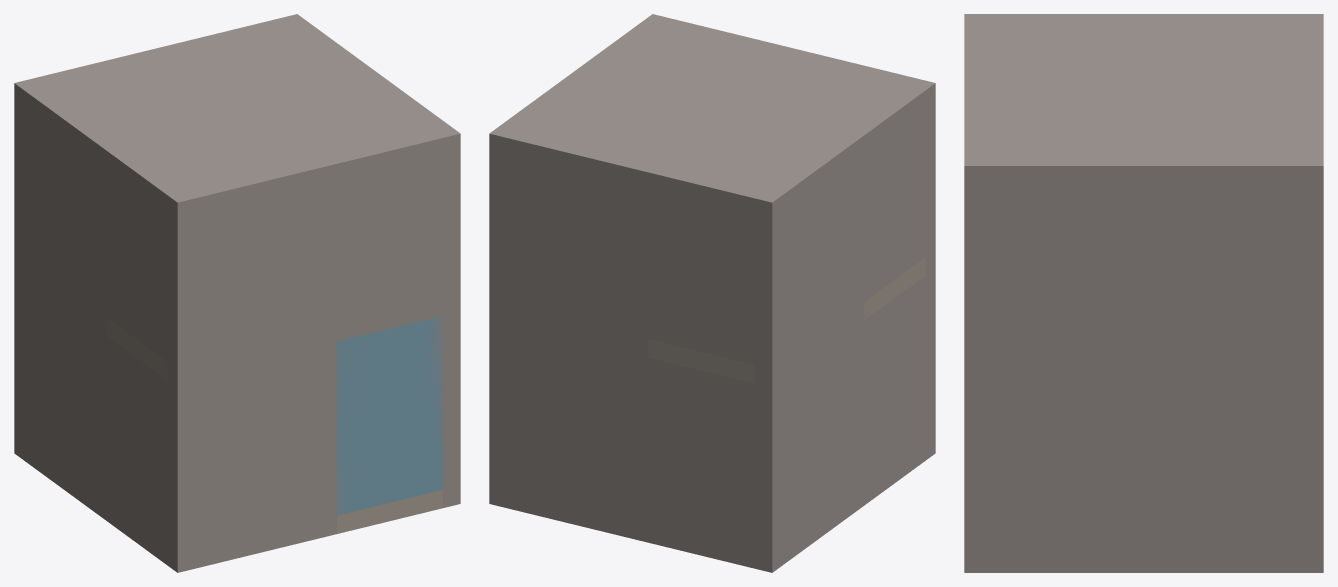
The model's file is rill-spring.glb.
The picture shows the model from 3 angles, left to right: view 1: azimuth 30°, elevation 25°; view 2: azimuth 150°, elevation 25°; view 3: azimuth 270°, elevation 25°; orthographic projection. The views are drawn at different scales.
Visible parts, largest first — view 1: rock_20, rock_6, rock_16, rock_1, rock_11, plug_rill_south, rock_9, plug_west, water_1, water_4, water_3, rock_5 (+10 smaller); view 2: rock_20, rock_2, rock_12, rock_1, rock_7, rock_11, plug_north, rock_9, plug_west, rock_17, rock_18, rock_6 (+3 smaller); view 3: rock_4, rock_20, rock_14, rock_3, rock_13, rock_2, rock_12.
Boxes of the visible parts, bbox=[...] form: rock_20: bbox=[14, 14, 460, 220]; rock_6: bbox=[167, 335, 319, 572]; rock_16: bbox=[167, 187, 319, 369]; rock_1: bbox=[14, 250, 106, 520]; rock_11: bbox=[14, 102, 106, 316]; plug_rill_south: bbox=[337, 175, 442, 330]; rock_9: bbox=[106, 336, 167, 564]; plug_west: bbox=[106, 206, 167, 361]; water_1: bbox=[372, 324, 407, 506]; water_4: bbox=[337, 333, 372, 515]; water_3: bbox=[407, 315, 442, 497]; rock_5: bbox=[319, 330, 336, 538]; rock_20: bbox=[489, 14, 935, 220]; rock_2: bbox=[489, 300, 648, 542]; rock_12: bbox=[489, 152, 648, 338]; rock_1: bbox=[754, 302, 864, 572]; rock_7: bbox=[648, 357, 754, 568]; rock_11: bbox=[754, 154, 864, 369]; plug_north: bbox=[648, 228, 754, 364]; rock_9: bbox=[864, 276, 925, 505]; plug_west: bbox=[864, 146, 925, 301]; rock_17: bbox=[648, 191, 754, 253]; rock_18: bbox=[864, 109, 925, 190]; rock_6: bbox=[925, 250, 935, 460]; rock_4: bbox=[964, 349, 1256, 572]; rock_20: bbox=[964, 14, 1323, 186]; rock_14: bbox=[964, 186, 1256, 348]; rock_3: bbox=[1256, 349, 1301, 572]; rock_13: bbox=[1256, 186, 1301, 348]; rock_2: bbox=[1301, 349, 1323, 572]; rock_12: bbox=[1301, 186, 1323, 348].
Bounding box in the file's own units: 8 × 10 × 8.
